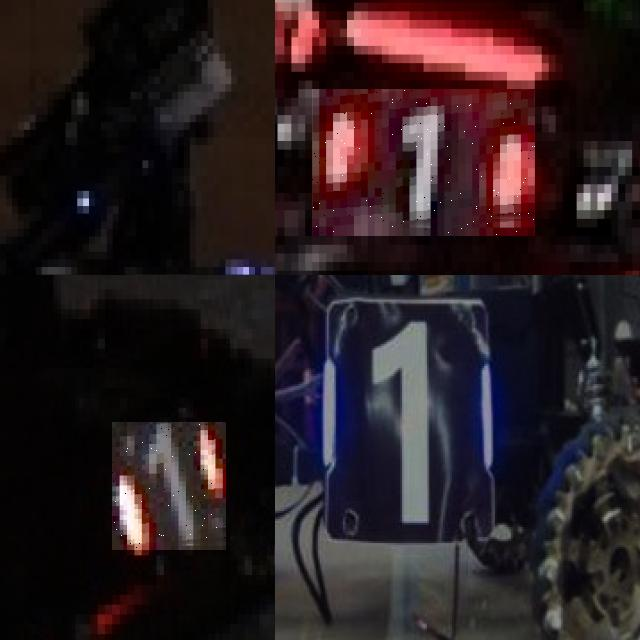R1: (312, 89, 535, 236), (112, 422, 226, 550)
